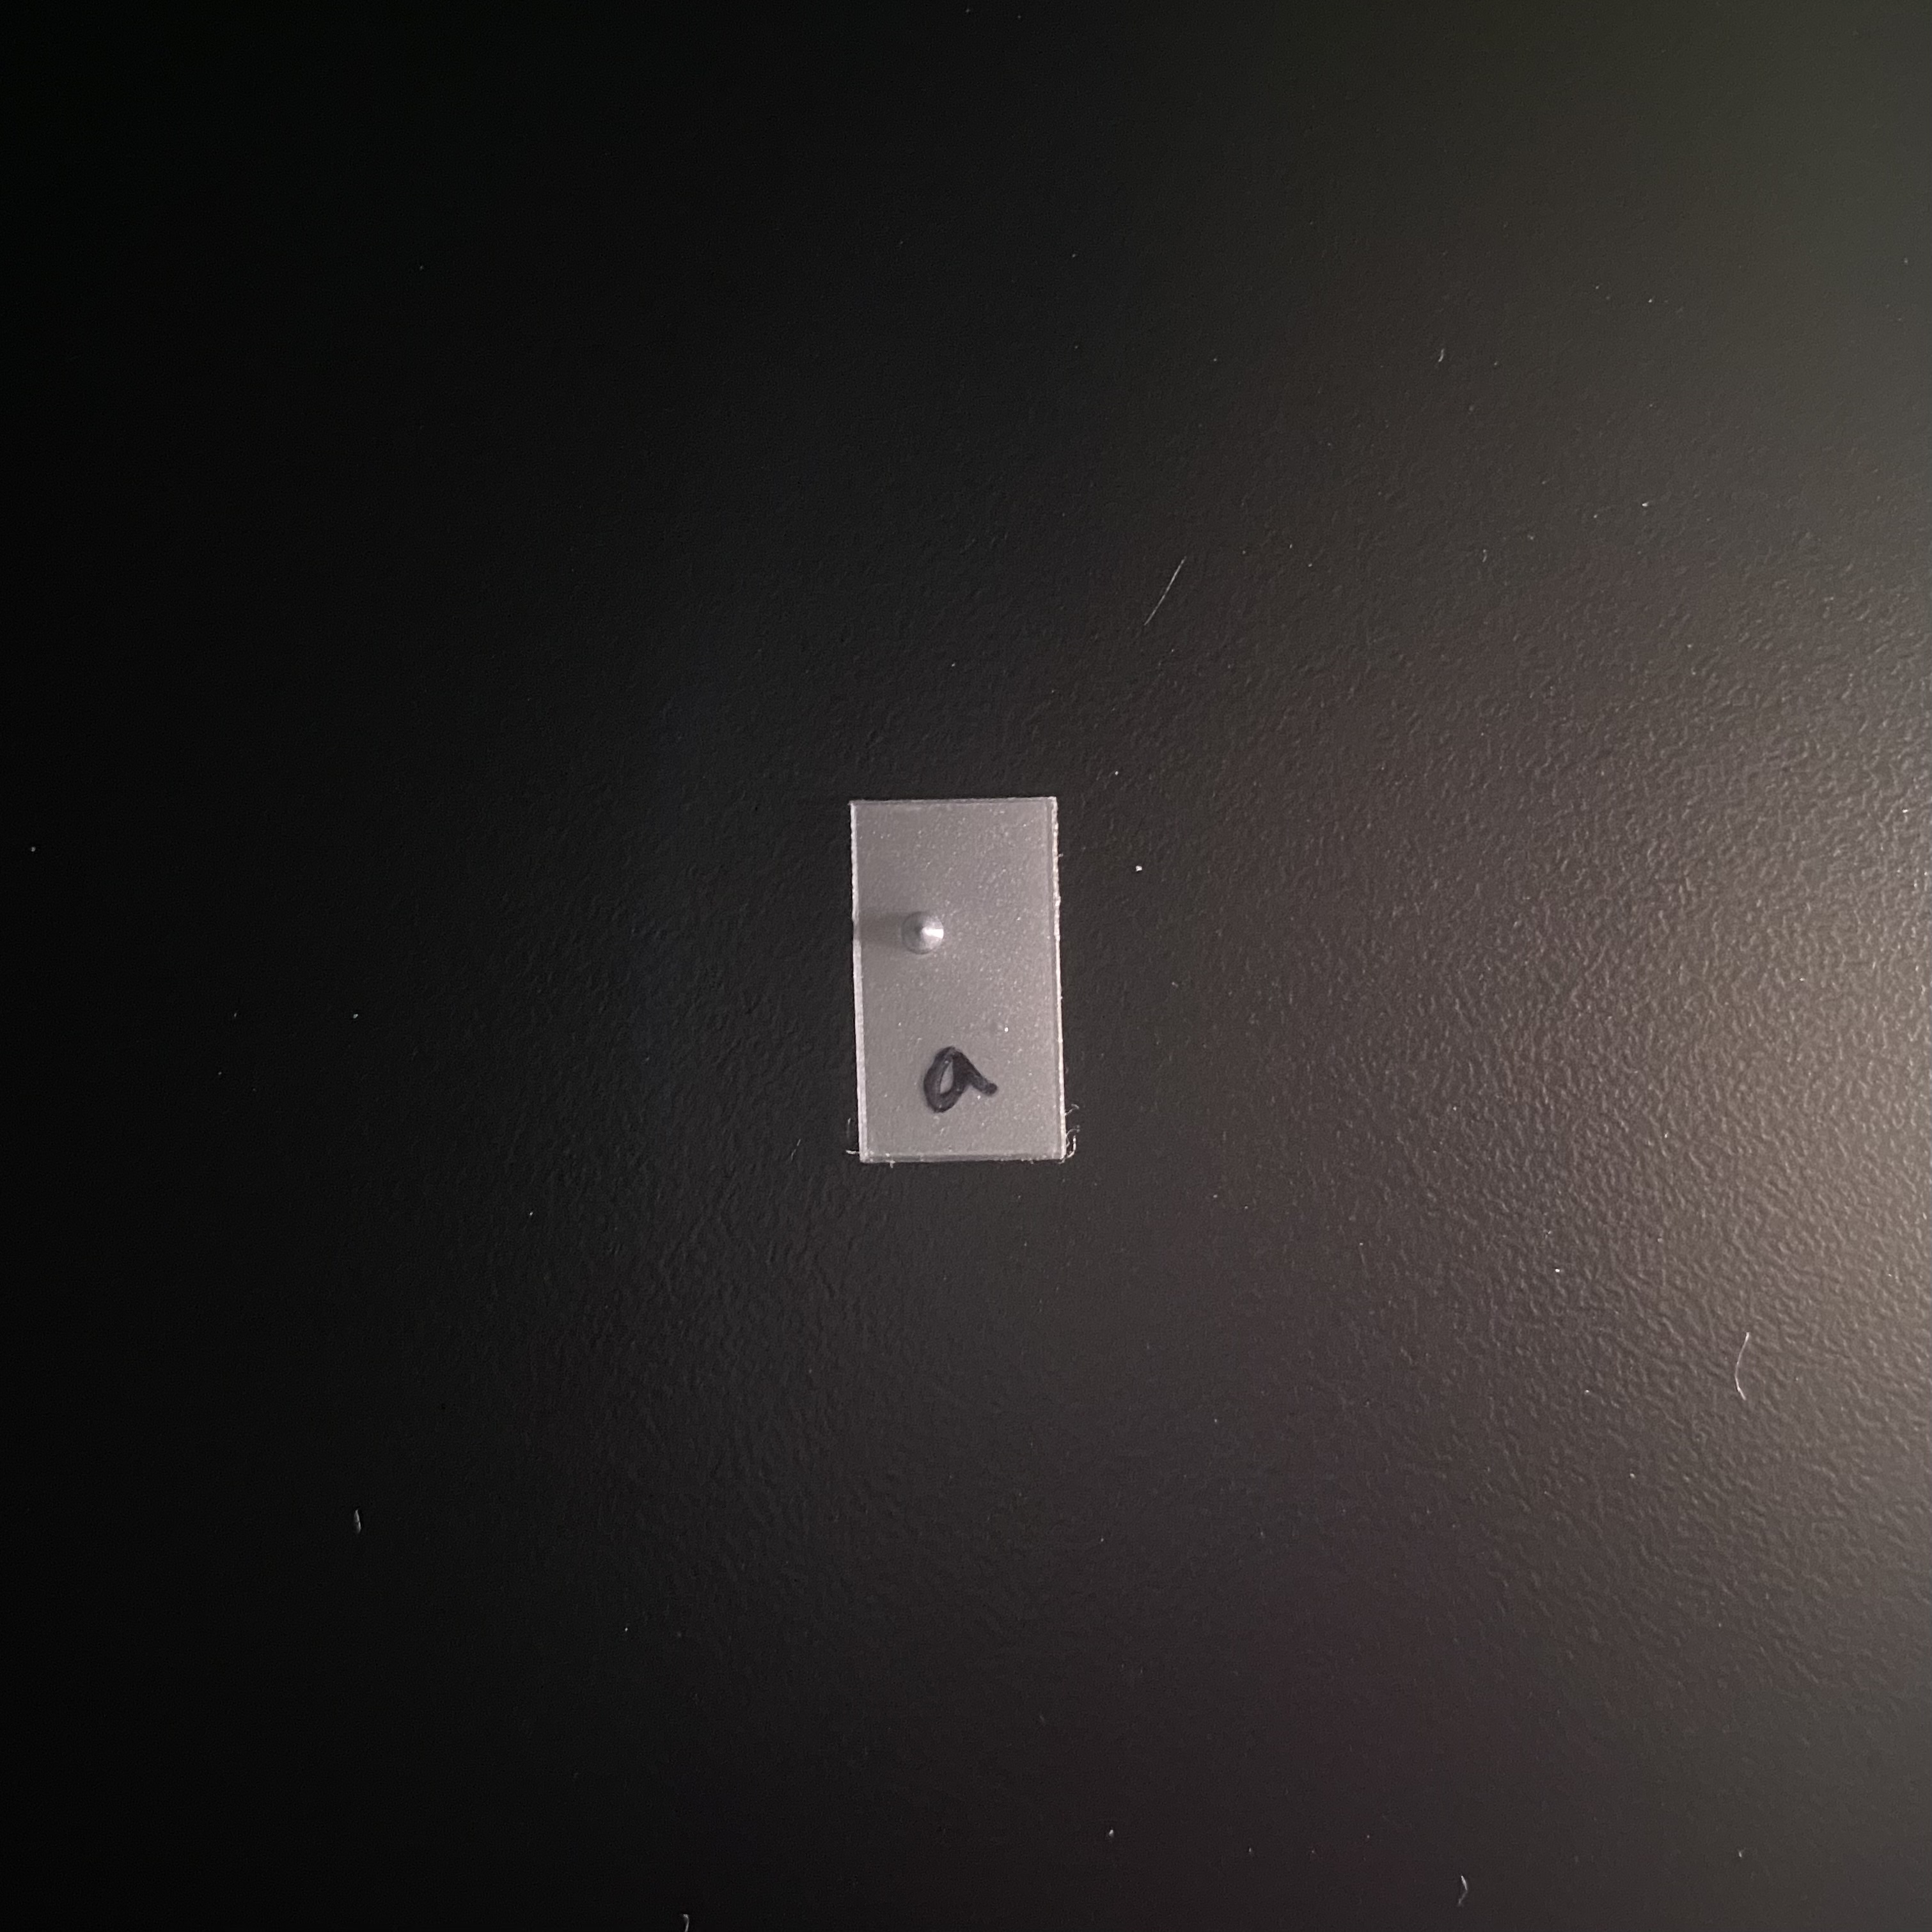a: (886, 854, 1028, 1108)
